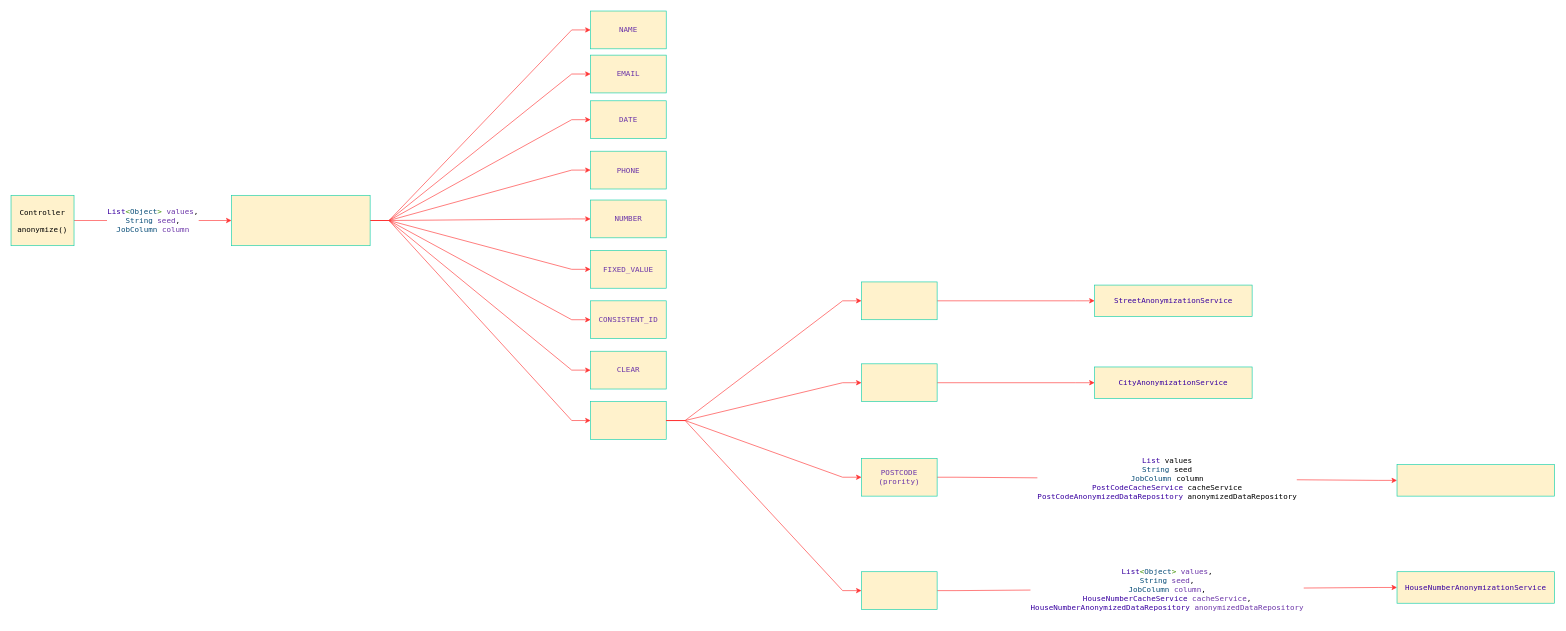
Some shapes in this 1566 by 631 pixel diagram are drawn without their labels. The shapes that lost their labels are listed below. From the top down, each one's centre as x and y in pixels, then its label:
pixel 300 220: AnonymizationServiceFactory getAnonymizationService()
pixel 899 300: STREET
pixel 899 382: CITY
pixel 628 420: ADDRESS
pixel 1475 480: PostCodeAnonymizationService
pixel 899 590: HOUSE_NUMBER
